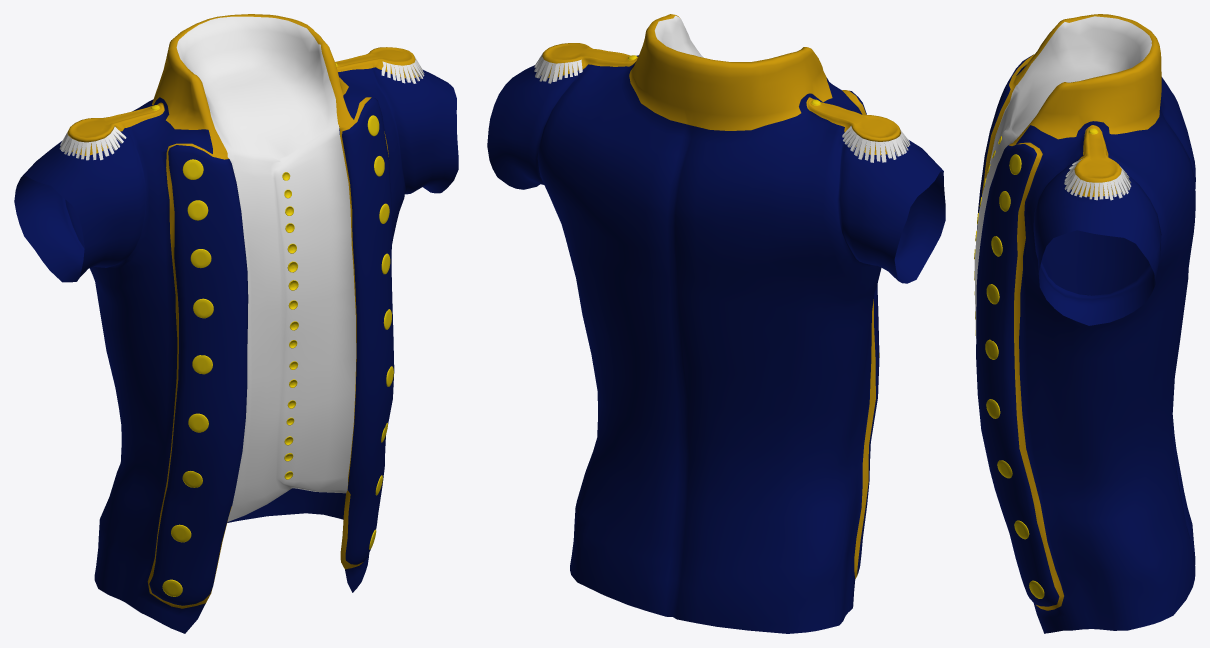
Rendered from Player_Model.fbx.
3 renders of one model, left to right at view 1: azimuth 30°, elevation 25°; view 2: azimuth 150°, elevation 25°; view 3: azimuth 270°, elevation 25°, orthographic. The views are drawn at different scales.
Parts seen in each view (by area): view 1: Captain_Coat, Captain_Coat.001; view 2: Captain_Coat, Captain_Coat.001; view 3: Captain_Coat, Captain_Coat.001.
Part boxes in pixels (x1,y1,x2,y2): Captain_Coat: [14, 14, 458, 633]; Captain_Coat.001: [59, 56, 424, 160]; Captain_Coat: [487, 14, 945, 633]; Captain_Coat.001: [534, 53, 910, 162]; Captain_Coat: [974, 14, 1195, 633]; Captain_Coat.001: [1064, 158, 1131, 200].
Size of the model in its own units: 393 by 509 by 186.
